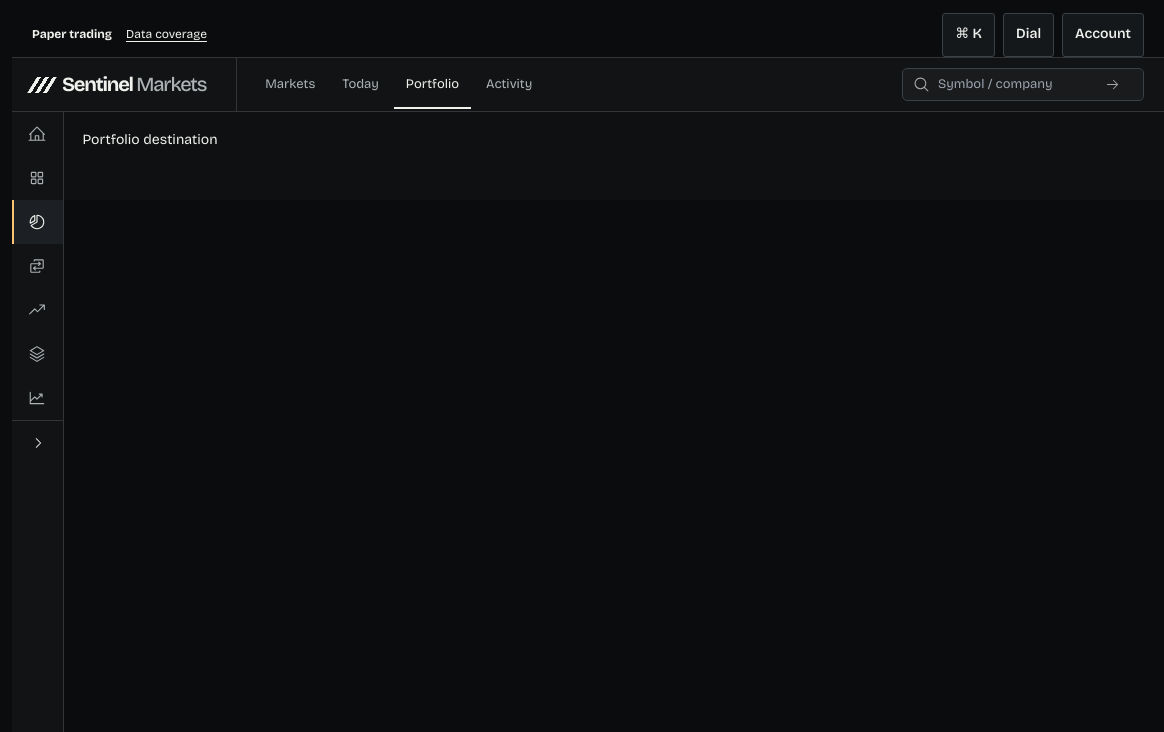
Test: desktop shell › opens Terrain with its icon rail and keeps the destination mounted when expanded
Click the button named "Expand sidebar": (38, 442) left=12, top=420, right=63, bottom=464
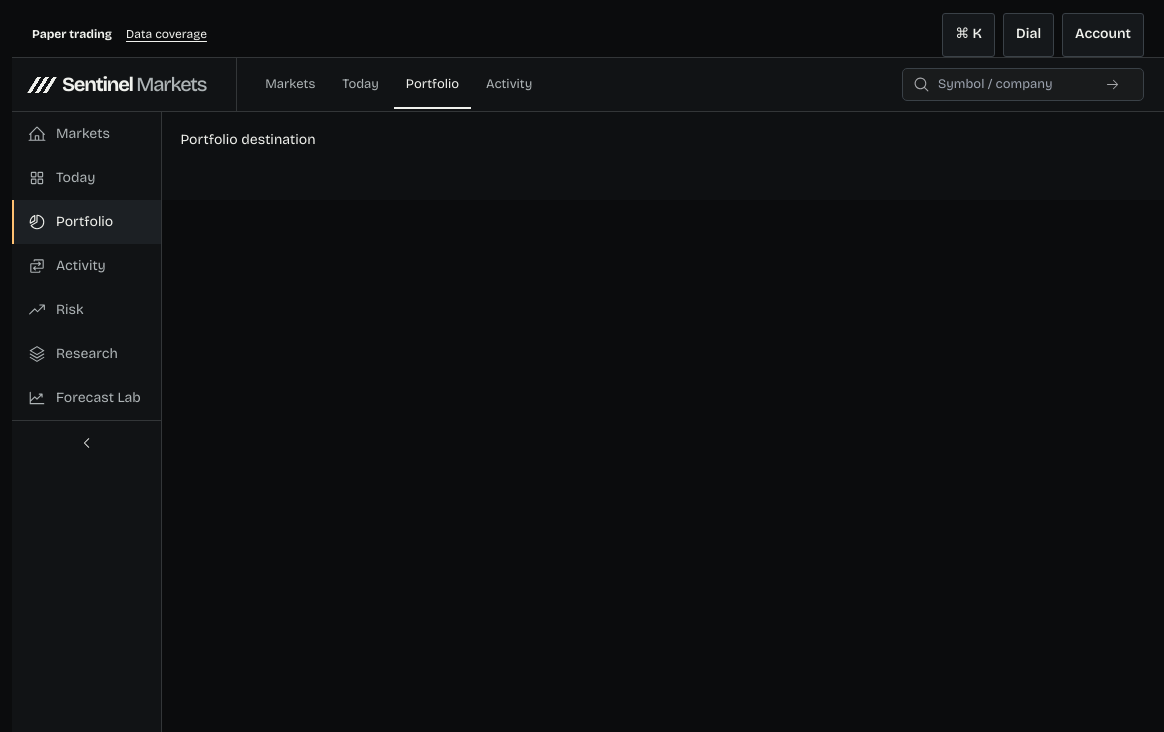
Expected: the element named "Sidebar" has attribute data-collapsed="false", left=12, top=112, right=162, bottom=731
Click the button named "Collapse sidebar": (86, 442) left=12, top=420, right=161, bottom=464
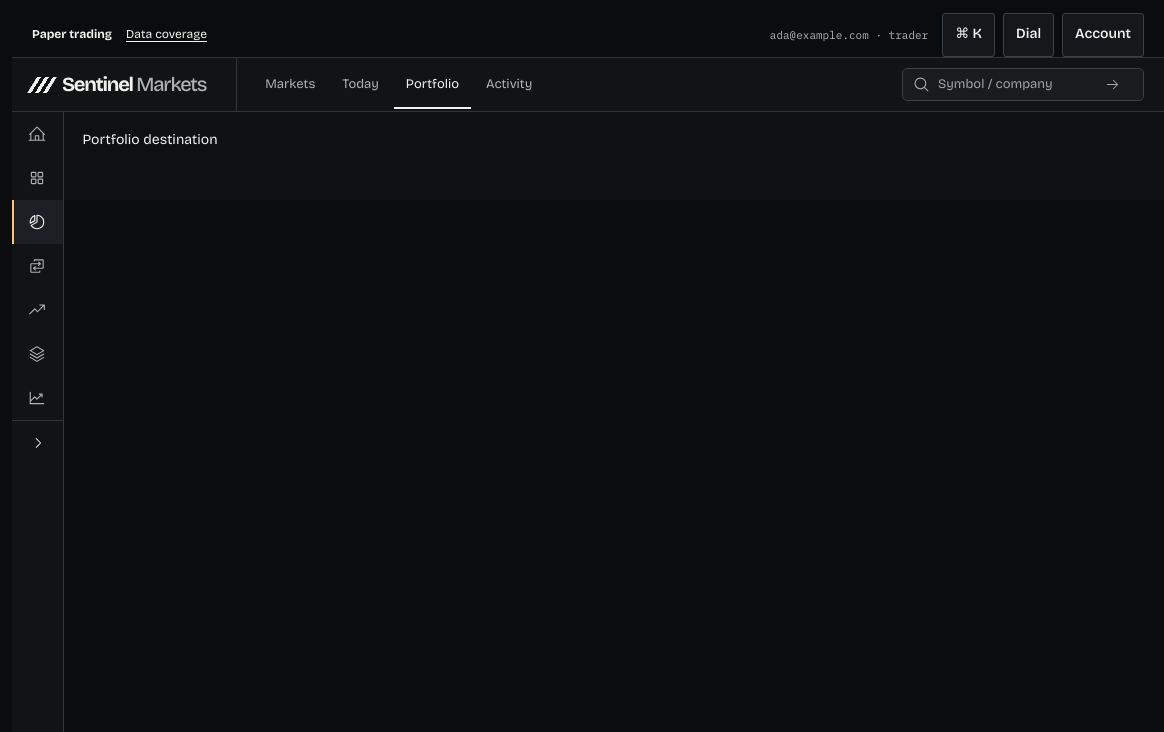
Expected: the link named "Markets" is shown, left=12, top=112, right=63, bottom=156
Expected: the element named "Sidebar" has attribute data-collapsed="true", left=12, top=112, right=64, bottom=731
